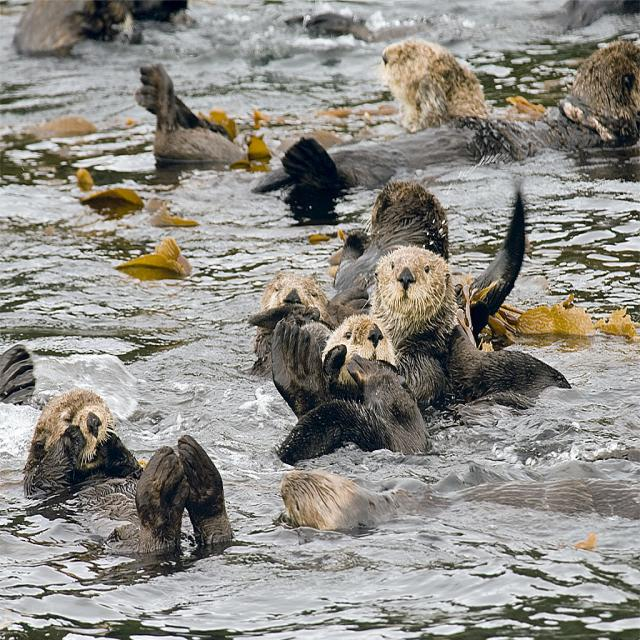otter: (27, 390, 233, 557), (381, 250, 573, 416), (288, 316, 428, 457), (335, 184, 448, 297), (258, 274, 333, 366)
